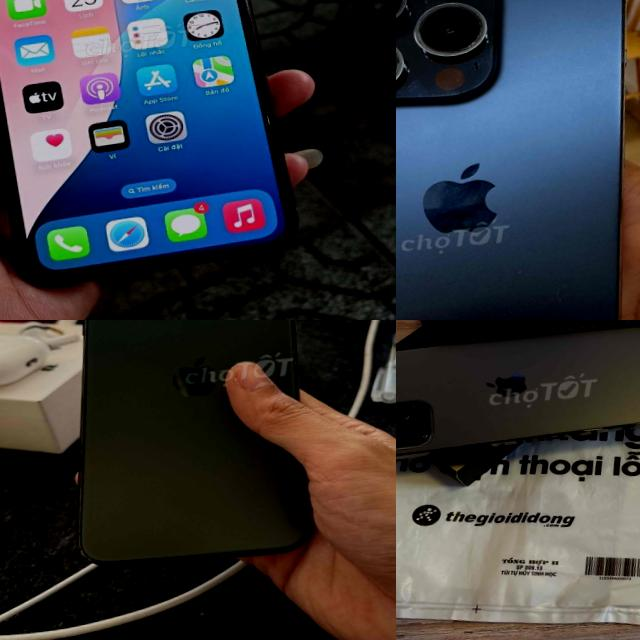gen_11: (77, 320, 306, 562)
gen_12_13: (396, 320, 640, 462)
gen_15: (396, 0, 640, 320)
gen_x_xs: (0, 0, 329, 297)
